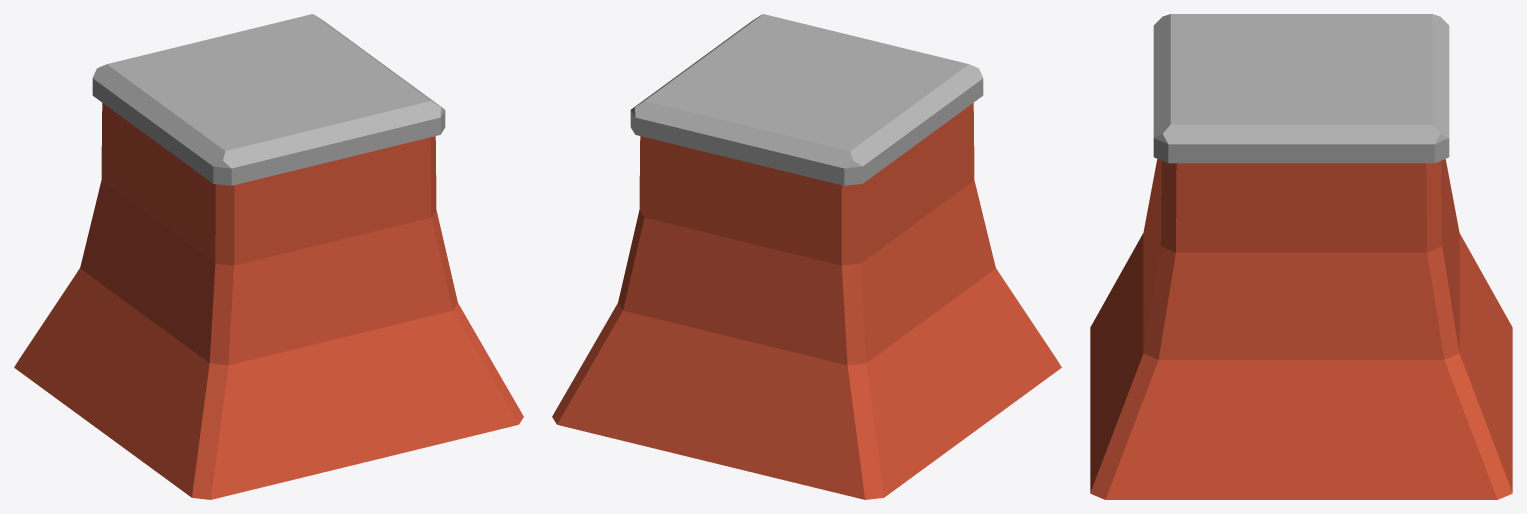
Rendered from Pocao.fbx.
3 renders of one model, left to right at view 1: azimuth 30°, elevation 25°; view 2: azimuth 150°, elevation 25°; view 3: azimuth 270°, elevation 25°, orthographic. The views are drawn at different scales.
Visible parts, largest first — view 1: Cube; view 2: Cube; view 3: Cube.
Boxes of the visible parts, x1,y1,x2,y2 form: Cube: [14, 14, 523, 499]; Cube: [552, 14, 1061, 499]; Cube: [1090, 14, 1512, 499].
Bounding box in the file's own units: 347 × 309 × 347.
